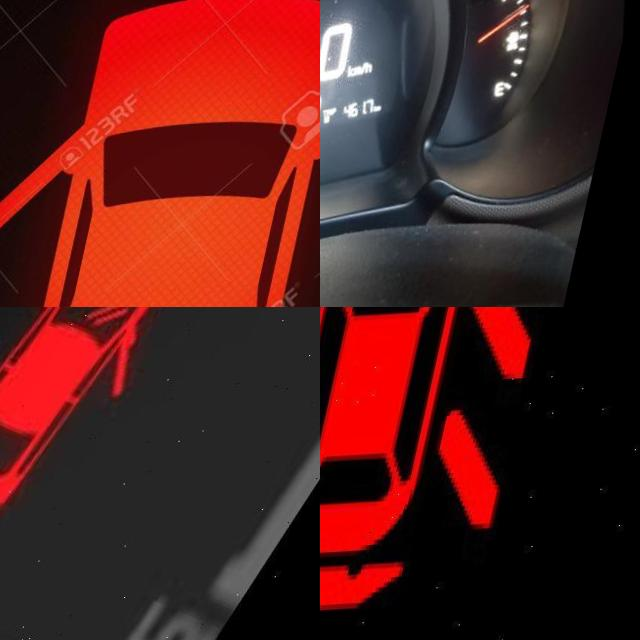SideLamp: (320, 161, 337, 179)
